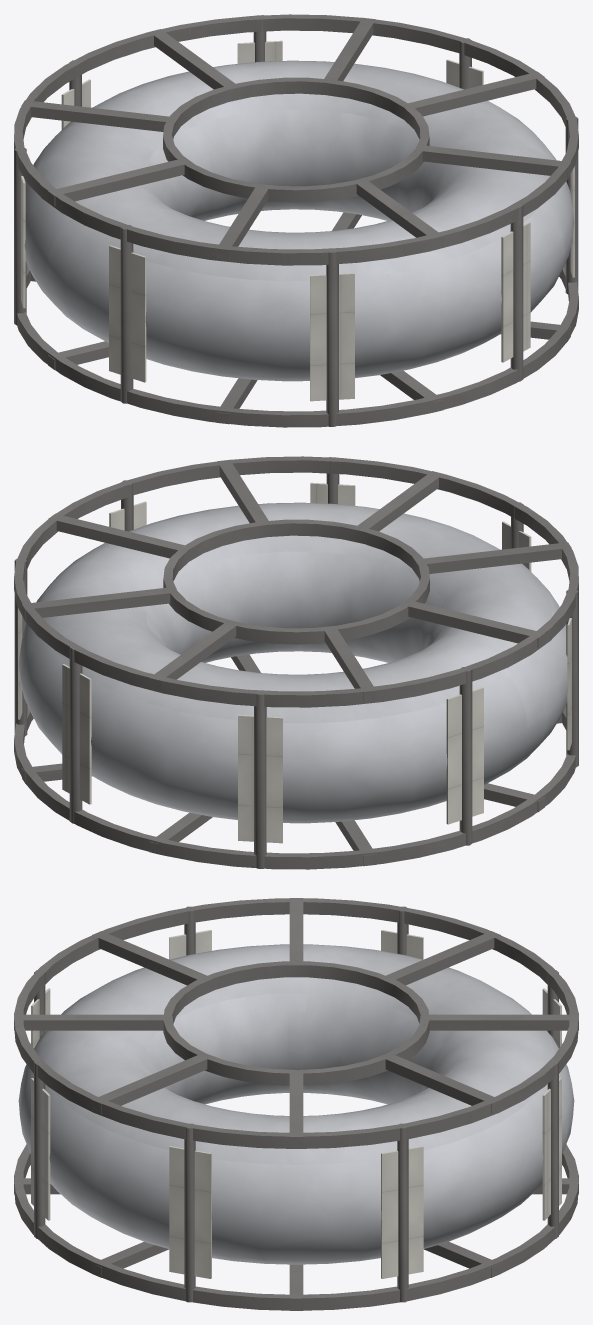
The model's file is tank11_toroidal_tank_m.glb.
3 views of the same model, one above another, from view 1: azimuth 30°, elevation 25°; view 2: azimuth 150°, elevation 25°; view 3: azimuth 270°, elevation 25° (orthographic).
Parts seen in each view (by area): view 1: torus, band_rings, struts, insulation, posts; view 2: torus, band_rings, struts, insulation, posts; view 3: torus, band_rings, struts, insulation, posts.
Boxes of the visible parts, left/top/right/bottom form: torus: left=24, top=60, right=574, bottom=381; band_rings: left=14, top=14, right=578, bottom=427; struts: left=21, top=17, right=570, bottom=424; insulation: left=21, top=40, right=574, bottom=401; posts: left=14, top=15, right=578, bottom=426; torus: left=18, top=502, right=568, bottom=823; band_rings: left=14, top=456, right=578, bottom=869; struts: left=22, top=459, right=571, bottom=866; insulation: left=18, top=482, right=571, bottom=843; posts: left=14, top=457, right=578, bottom=868; torus: left=18, top=944, right=574, bottom=1264; band_rings: left=14, top=898, right=578, bottom=1310; struts: left=14, top=898, right=578, bottom=1310; insulation: left=31, top=930, right=561, bottom=1278; posts: left=34, top=906, right=558, bottom=1302.
Size of the model in its own units: 2.5 by 0.8597 by 2.5.
Materials: 4 (4 with a texture image).
